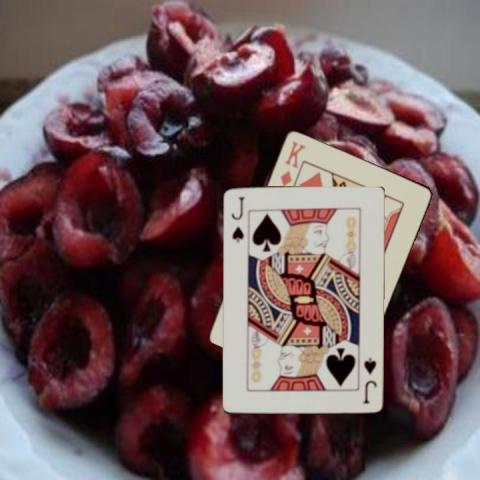Js: (360, 355, 378, 405), (229, 194, 246, 244)
Kd: (278, 137, 308, 188)
